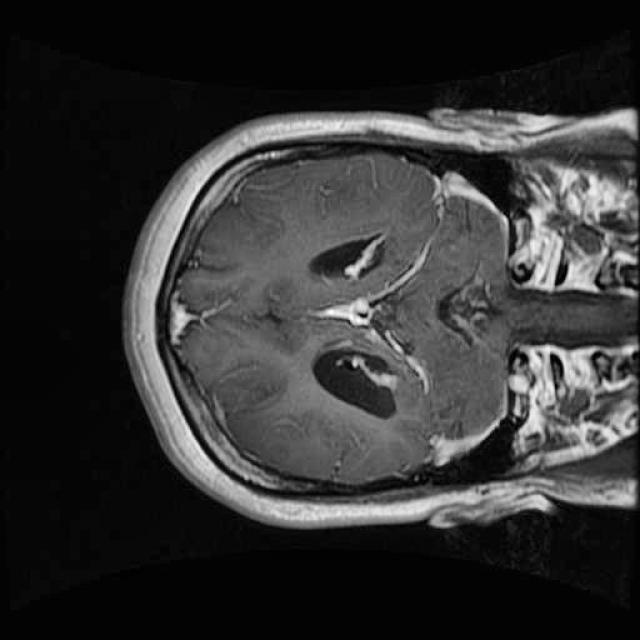Tumor: (294, 325, 418, 430)
